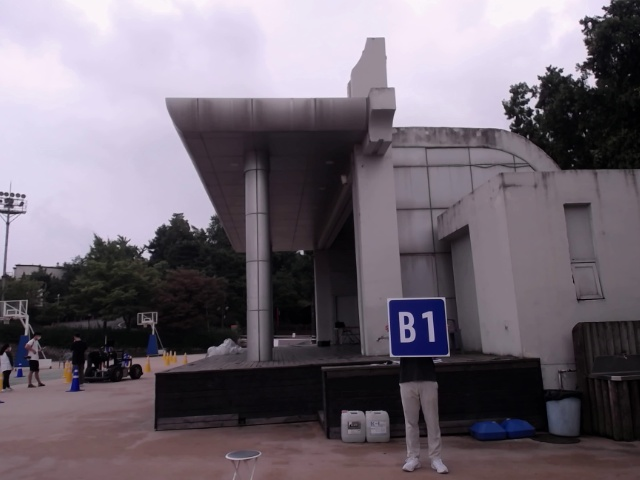delivery_b1: (386, 297, 450, 357)
